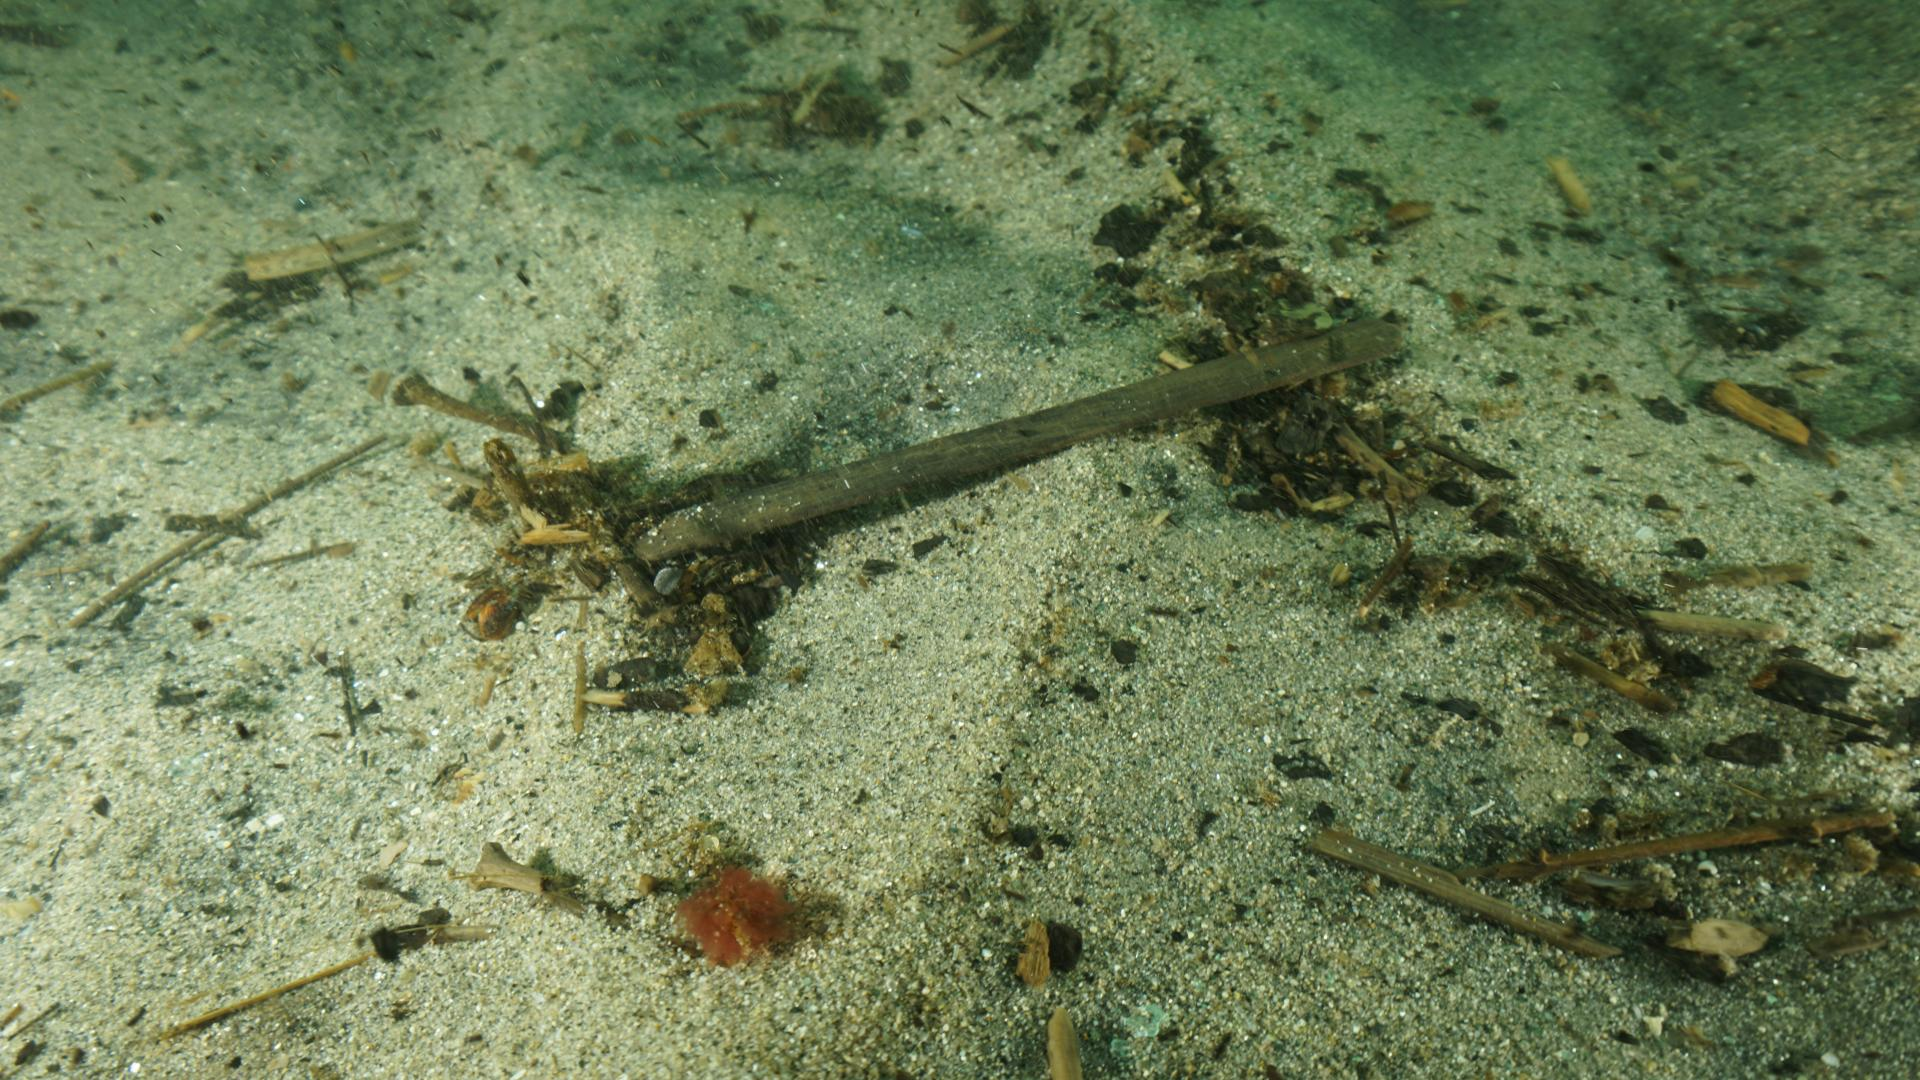wood: (618, 313, 1399, 559)
